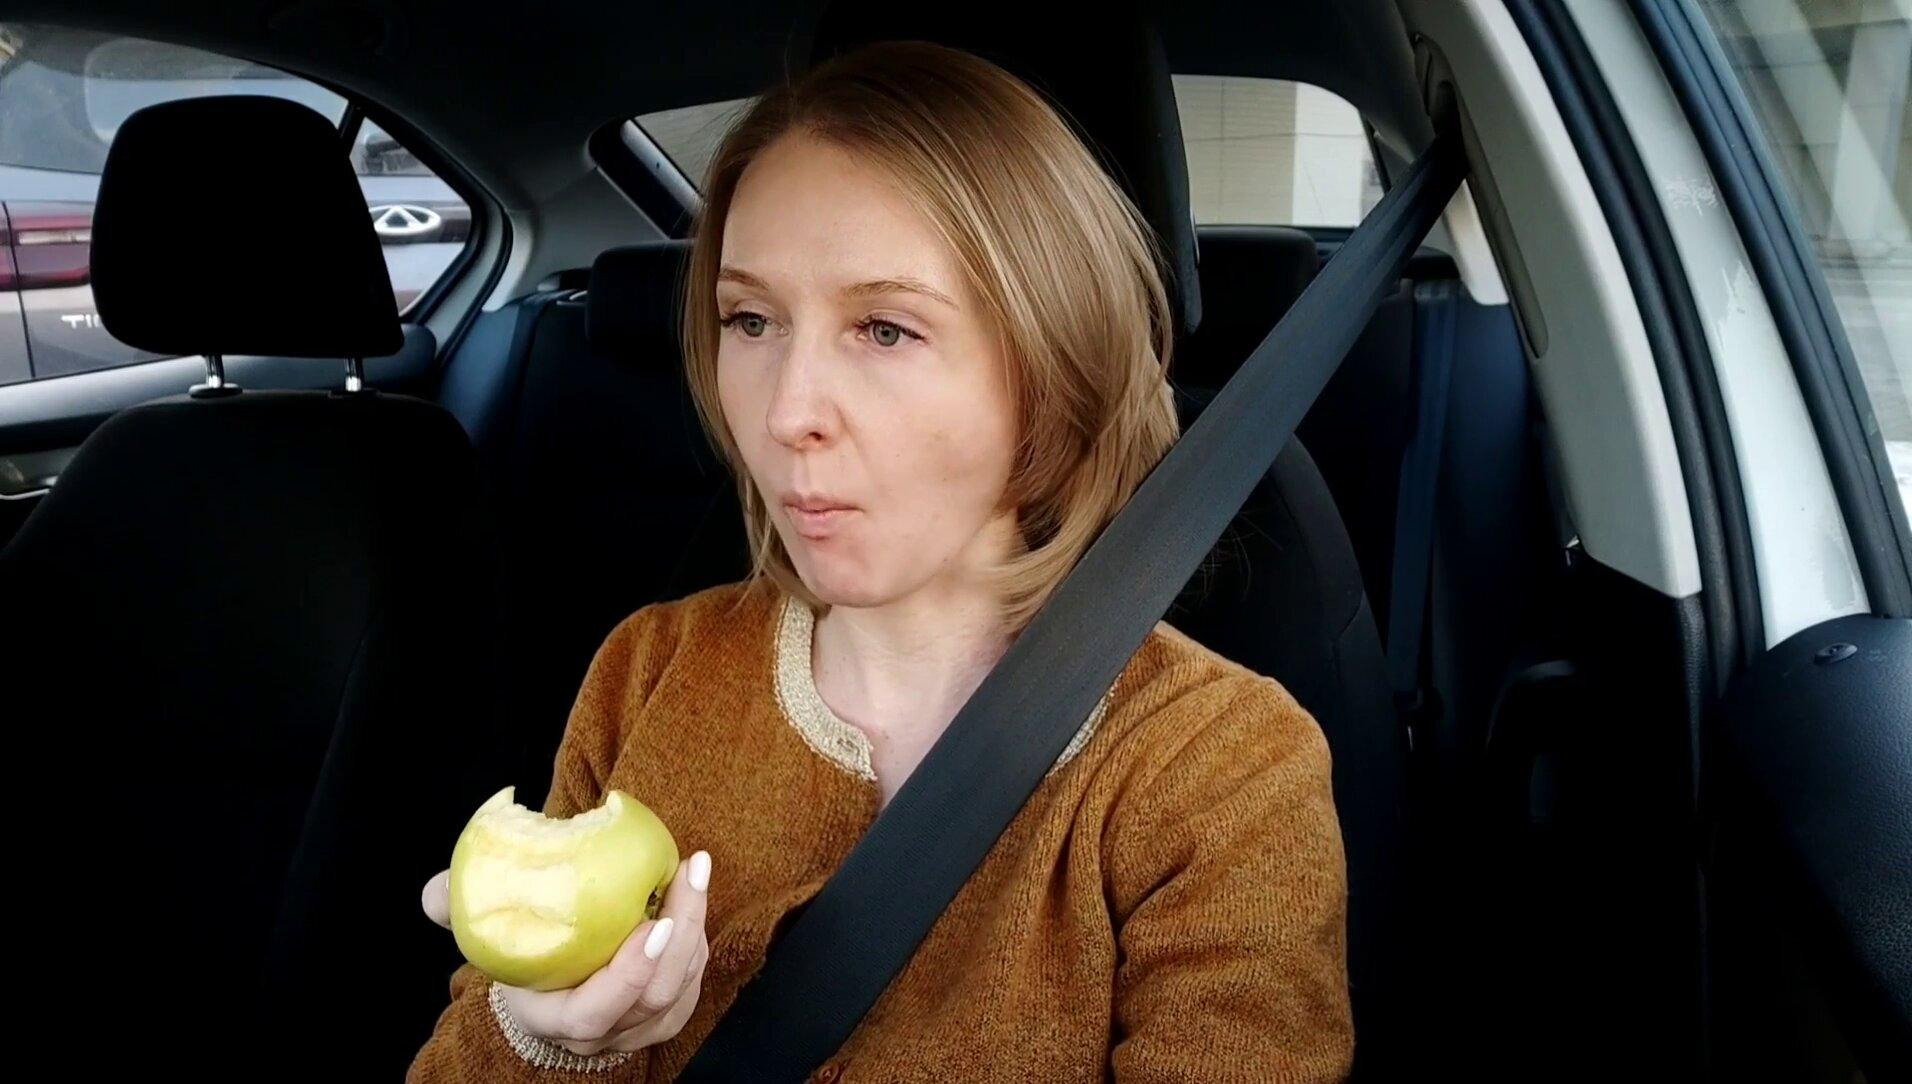Eating: (445, 780, 687, 997)
